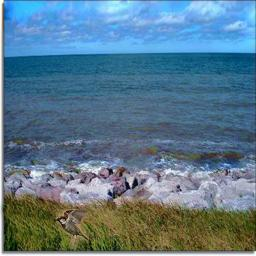Sparrow: (56, 209, 89, 249)
